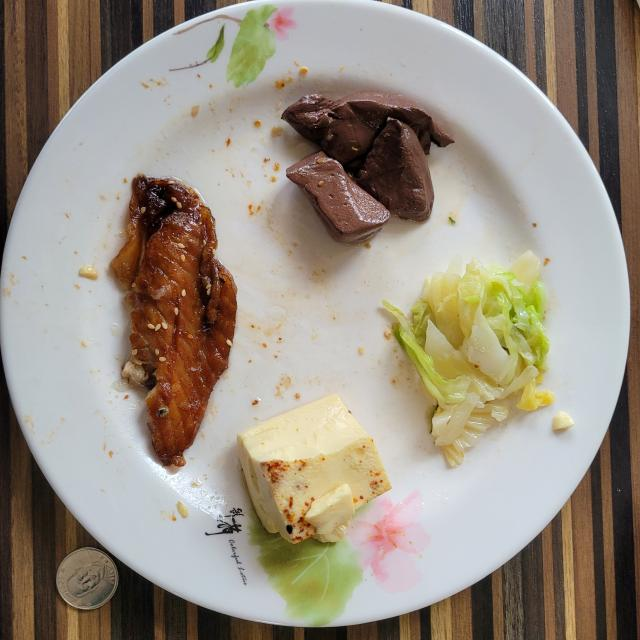Kabayaki sea bream fillet: (111, 174, 236, 468)
cabbage: (385, 251, 555, 468)
coin: (56, 548, 119, 610)
pig blood curd: (282, 92, 454, 244)
